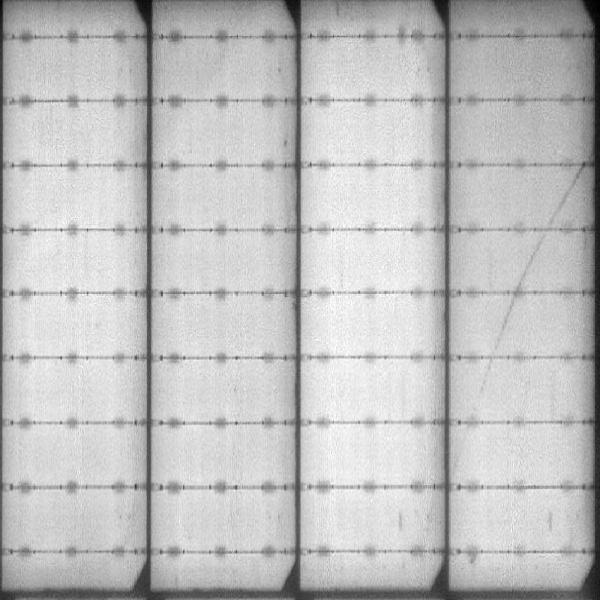scratch: (544, 165, 584, 228), (513, 230, 546, 289), (493, 297, 519, 351)
